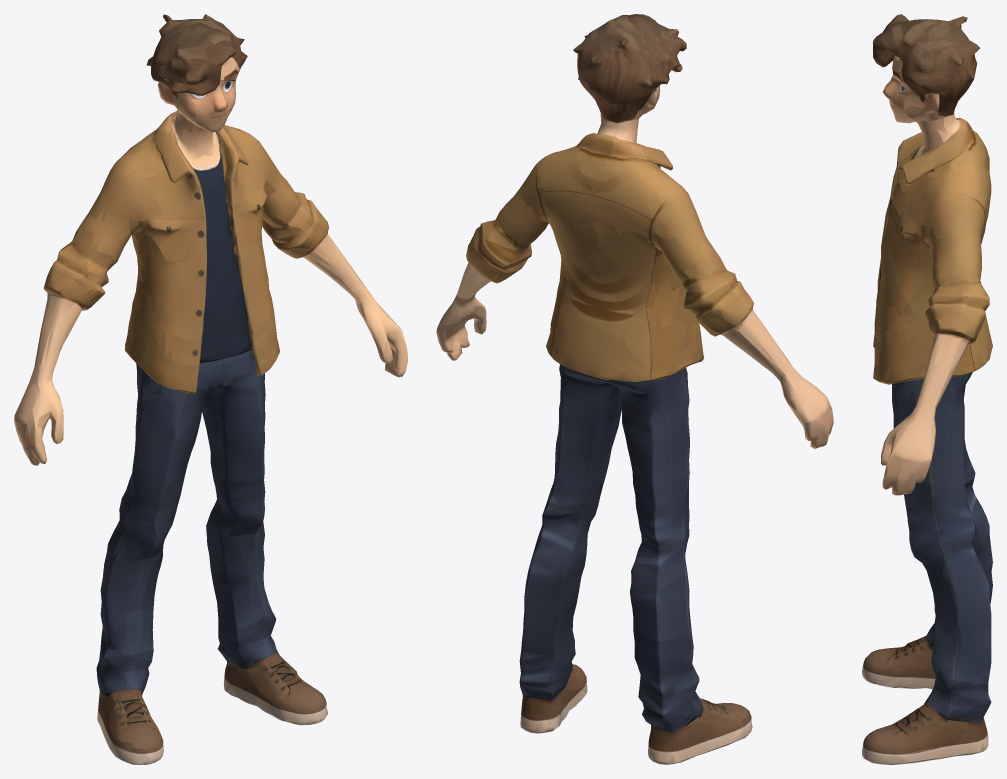
File: cousin-male.glb
3 renders of one model, left to right at view 1: azimuth 30°, elevation 25°; view 2: azimuth 150°, elevation 25°; view 3: azimuth 270°, elevation 25°, orthographic.
Bounding box in the file's own units: 1.08 × 1.91 × 0.3249.
Materials: 1 (1 with a texture image).
